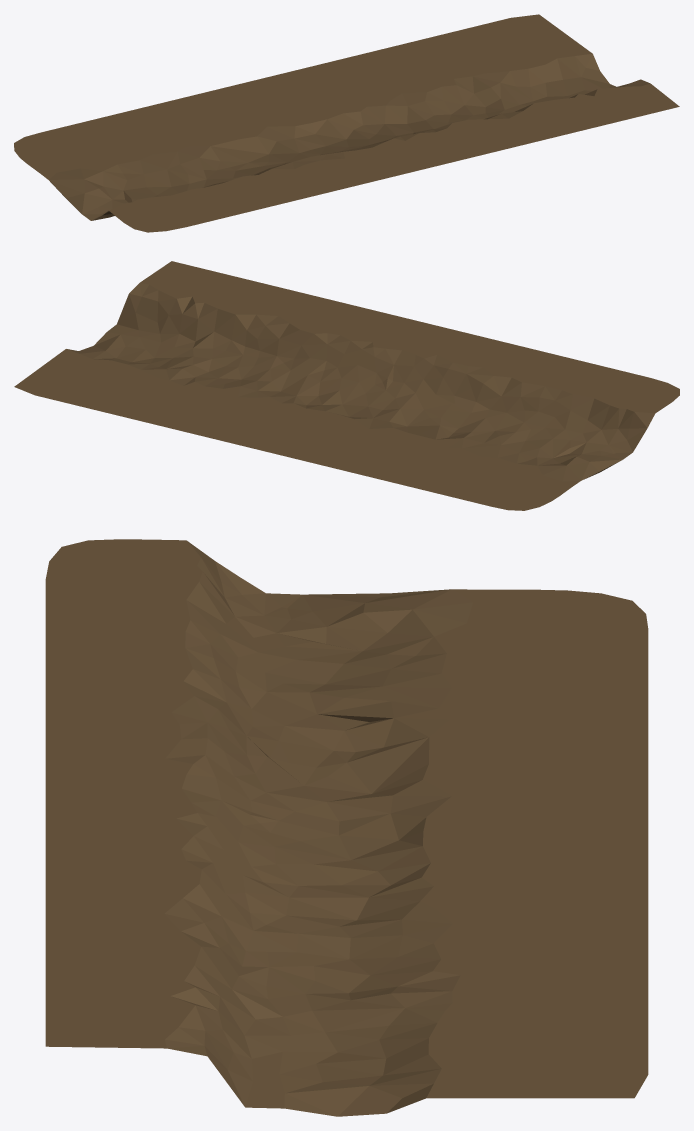
The model's file is GroundPlane.fbx.
3 renders of one model, top to bottom at view 1: azimuth 30°, elevation 25°; view 2: azimuth 150°, elevation 25°; view 3: azimuth 270°, elevation 25°, orthographic. The views are drawn at different scales.
Visible parts, largest first — view 1: Plane.016; view 2: Plane.016; view 3: Plane.016.
Boxes of the visible parts, x1,y1,x2,y2 form: Plane.016: (14,14,679,232); Plane.016: (14,261,679,510); Plane.016: (45,539,648,1116).
Bounding box in the file's own units: 83403 × 4886 × 41035.
